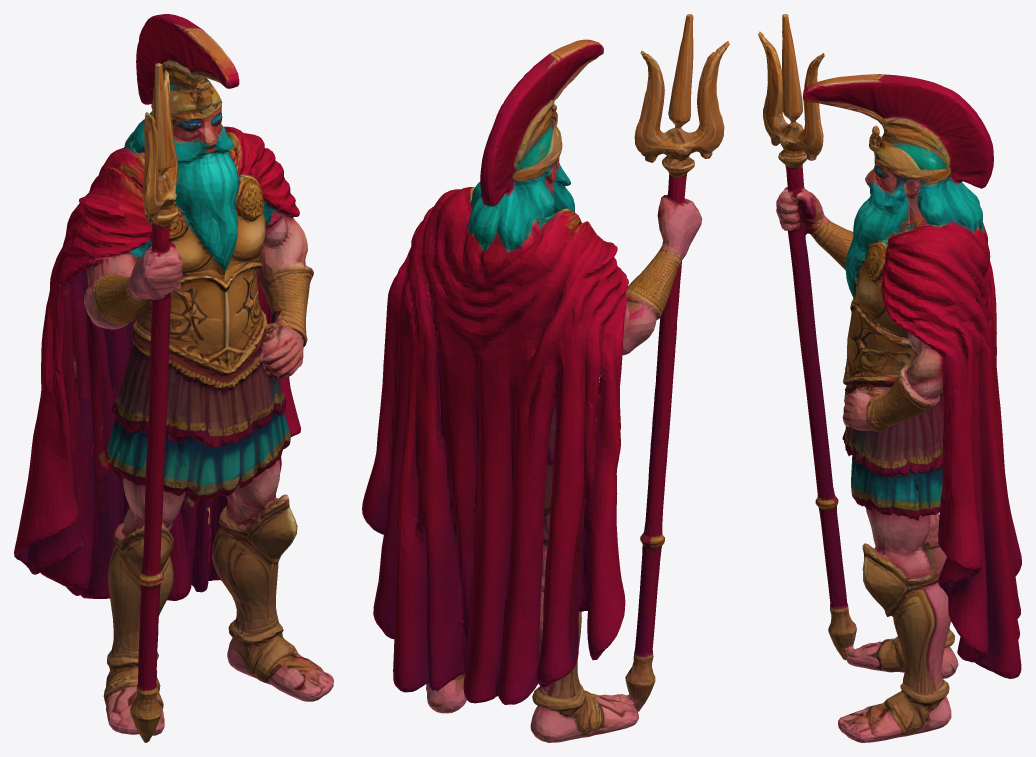
3 renders of one model, left to right at view 1: azimuth 30°, elevation 25°; view 2: azimuth 150°, elevation 25°; view 3: azimuth 270°, elevation 25°, orthographic. The views are drawn at different scales.
Parts seen in each view (by area): view 1: textured_mesh.obj; view 2: textured_mesh.obj; view 3: textured_mesh.obj.
Boxes of the visible parts, box(x1,y1,x2,y2) form: textured_mesh.obj: box(14, 14, 333, 742); textured_mesh.obj: box(362, 14, 729, 742); textured_mesh.obj: box(758, 14, 1021, 742).
Bounding box in the file's own units: 0.8022 × 1.99 × 0.7465.
1 material, 1 textured.
